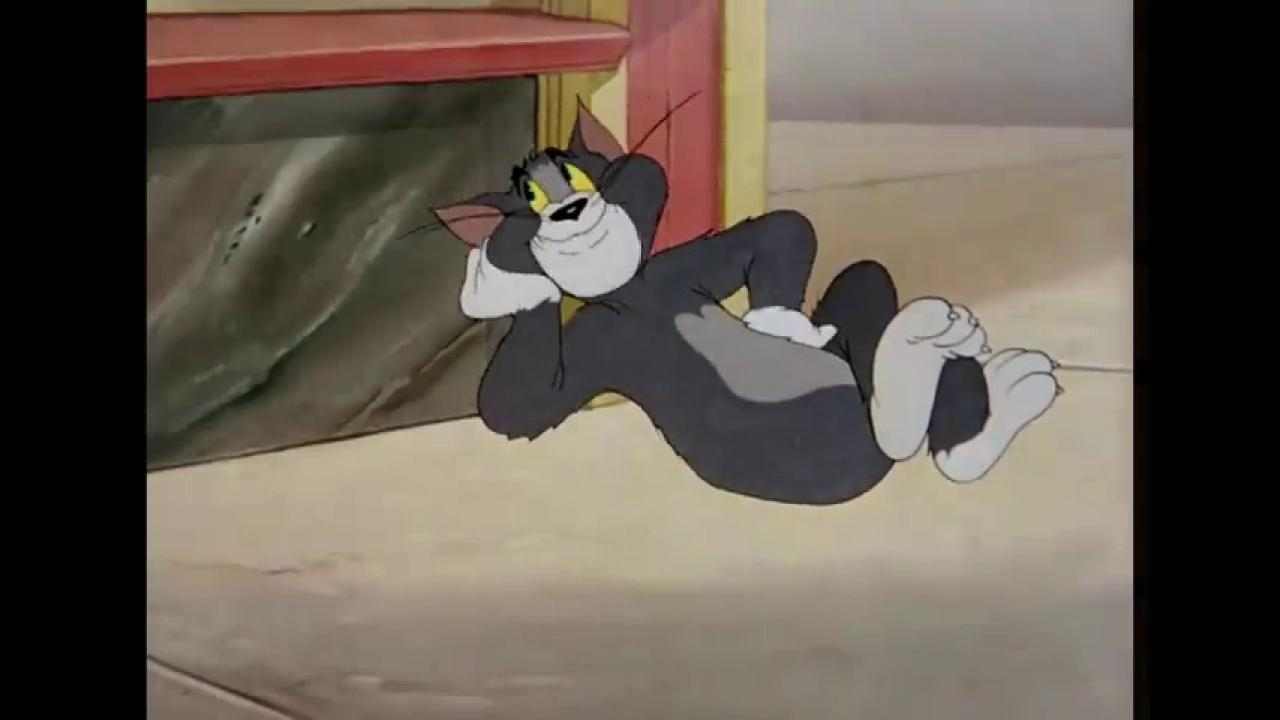Tom: (425, 94, 1063, 506)
